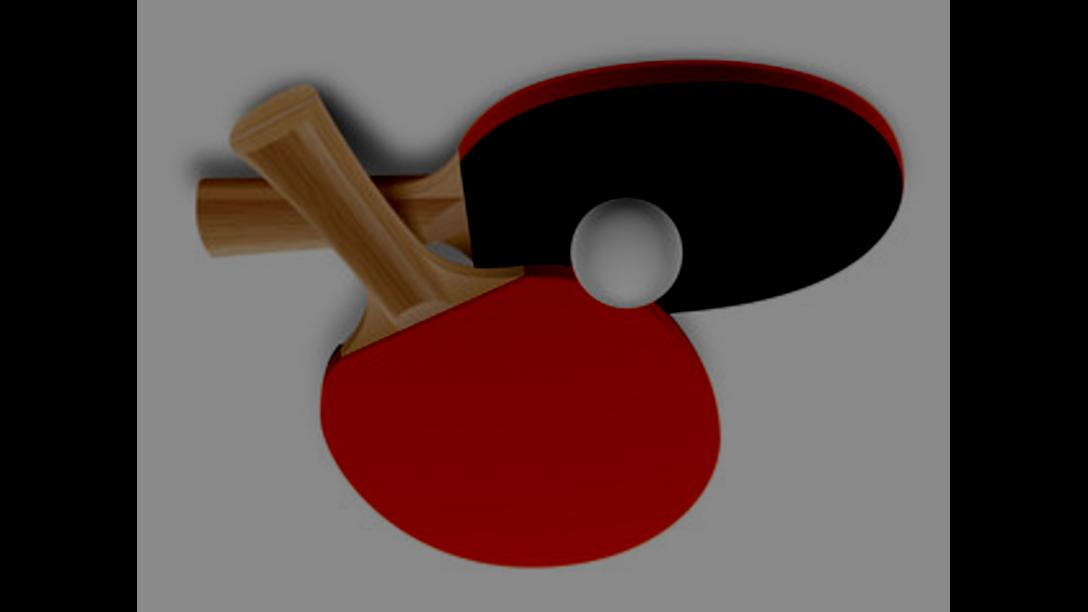Table-Tennis-Ball: (573, 197, 681, 309)
